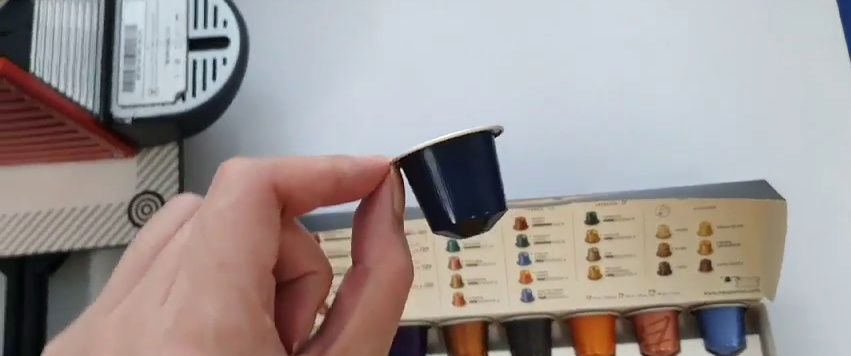capsule_1: (387, 124, 512, 238)
